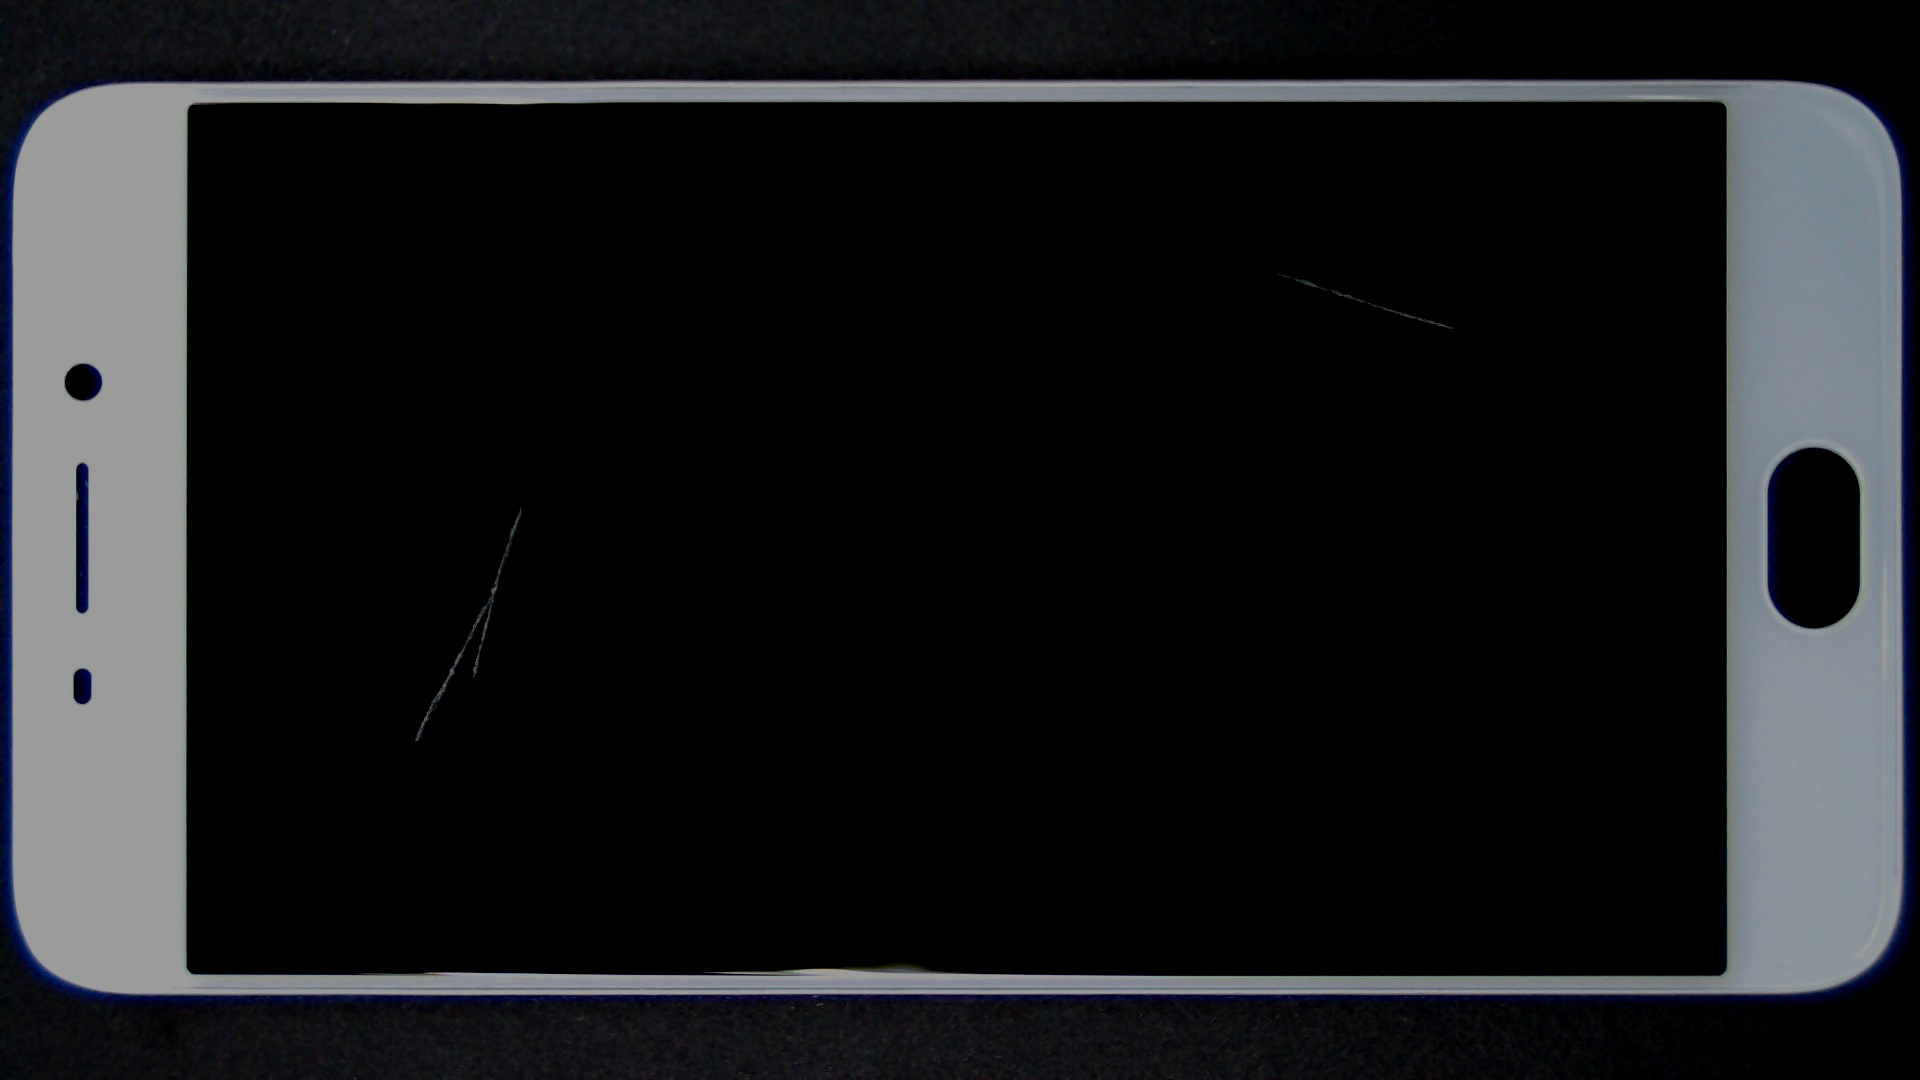oil: (638, 135, 1913, 407), (262, 252, 785, 757)
